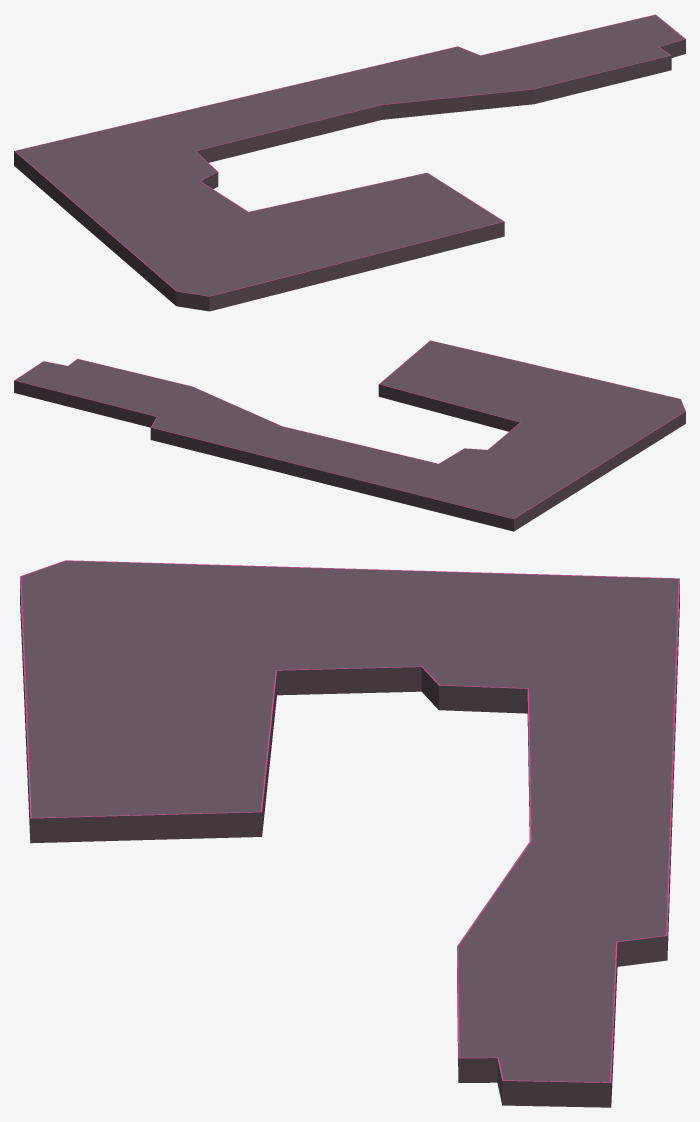
Rendered from way-205657497.glb.
3 renders of one model, top to bottom at view 1: azimuth 30°, elevation 25°; view 2: azimuth 150°, elevation 25°; view 3: azimuth 270°, elevation 25°, orthographic. The views are drawn at different scales.
Parts seen in each view (by area): view 1: way-205657497; view 2: way-205657497; view 3: way-205657497.
Boxes of the visible parts, x1,y1,x2,y2 form: way-205657497: (14,14,685,311); way-205657497: (14,340,685,531); way-205657497: (20,560,679,1107).
Bounding box in the file's own units: 136 × 3 × 72.7.
